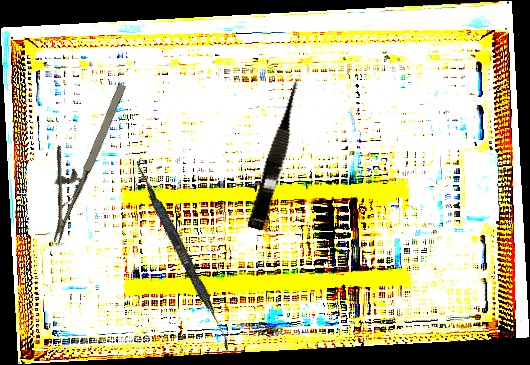Micro Scissor: (246, 76, 310, 232)
Needle Holder: (20, 71, 132, 244)
Spatula Surgical: (128, 160, 238, 350)
